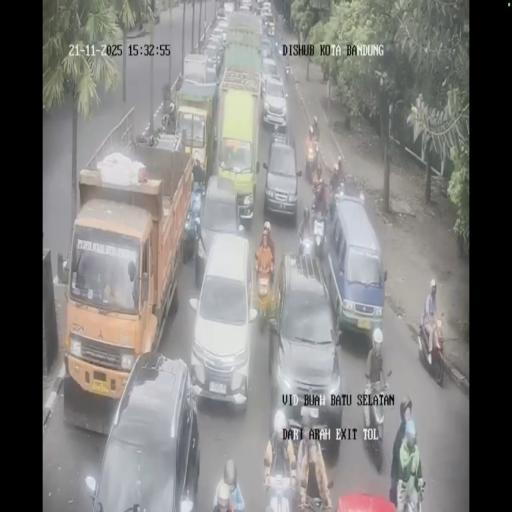car: (268, 255, 344, 448), (327, 196, 385, 341), (195, 174, 245, 280), (262, 136, 300, 224), (261, 71, 287, 130), (335, 492, 397, 512), (203, 42, 224, 80), (280, 43, 290, 79), (215, 15, 230, 38), (260, 36, 272, 60), (222, 1, 234, 16), (261, 0, 271, 16), (240, 0, 252, 12), (266, 22, 275, 36)
motorcycle: (361, 371, 390, 467), (263, 447, 297, 510), (418, 312, 444, 386), (256, 261, 276, 328), (310, 198, 328, 256), (298, 224, 314, 260), (305, 146, 319, 183), (332, 179, 346, 206)
truck: (63, 146, 190, 416), (172, 76, 218, 183), (221, 8, 263, 88)
